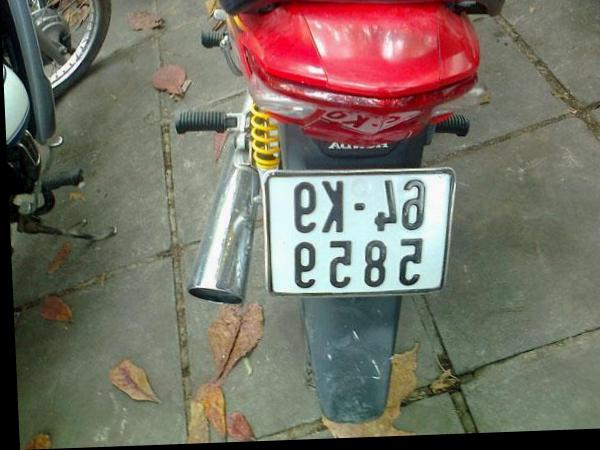License_Plate: (267, 171, 452, 298)
